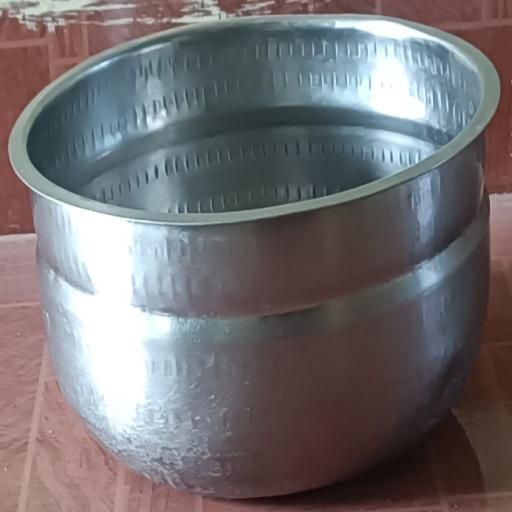vessel: (10, 16, 499, 496)
